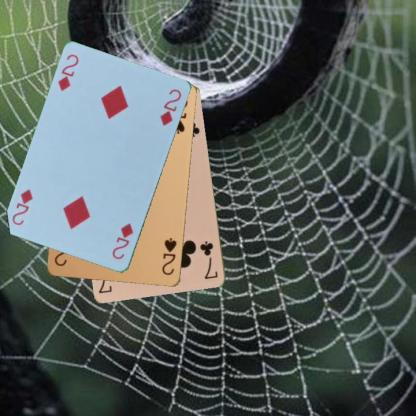2d: (56, 52, 80, 93), (110, 221, 134, 261)
2s: (159, 235, 178, 277)
7c: (198, 239, 220, 280)
